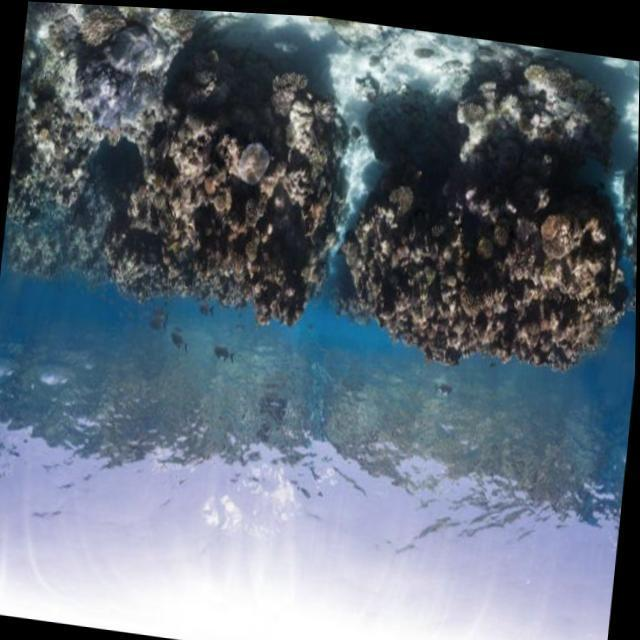Dead Coral: (18, 26, 640, 378)
